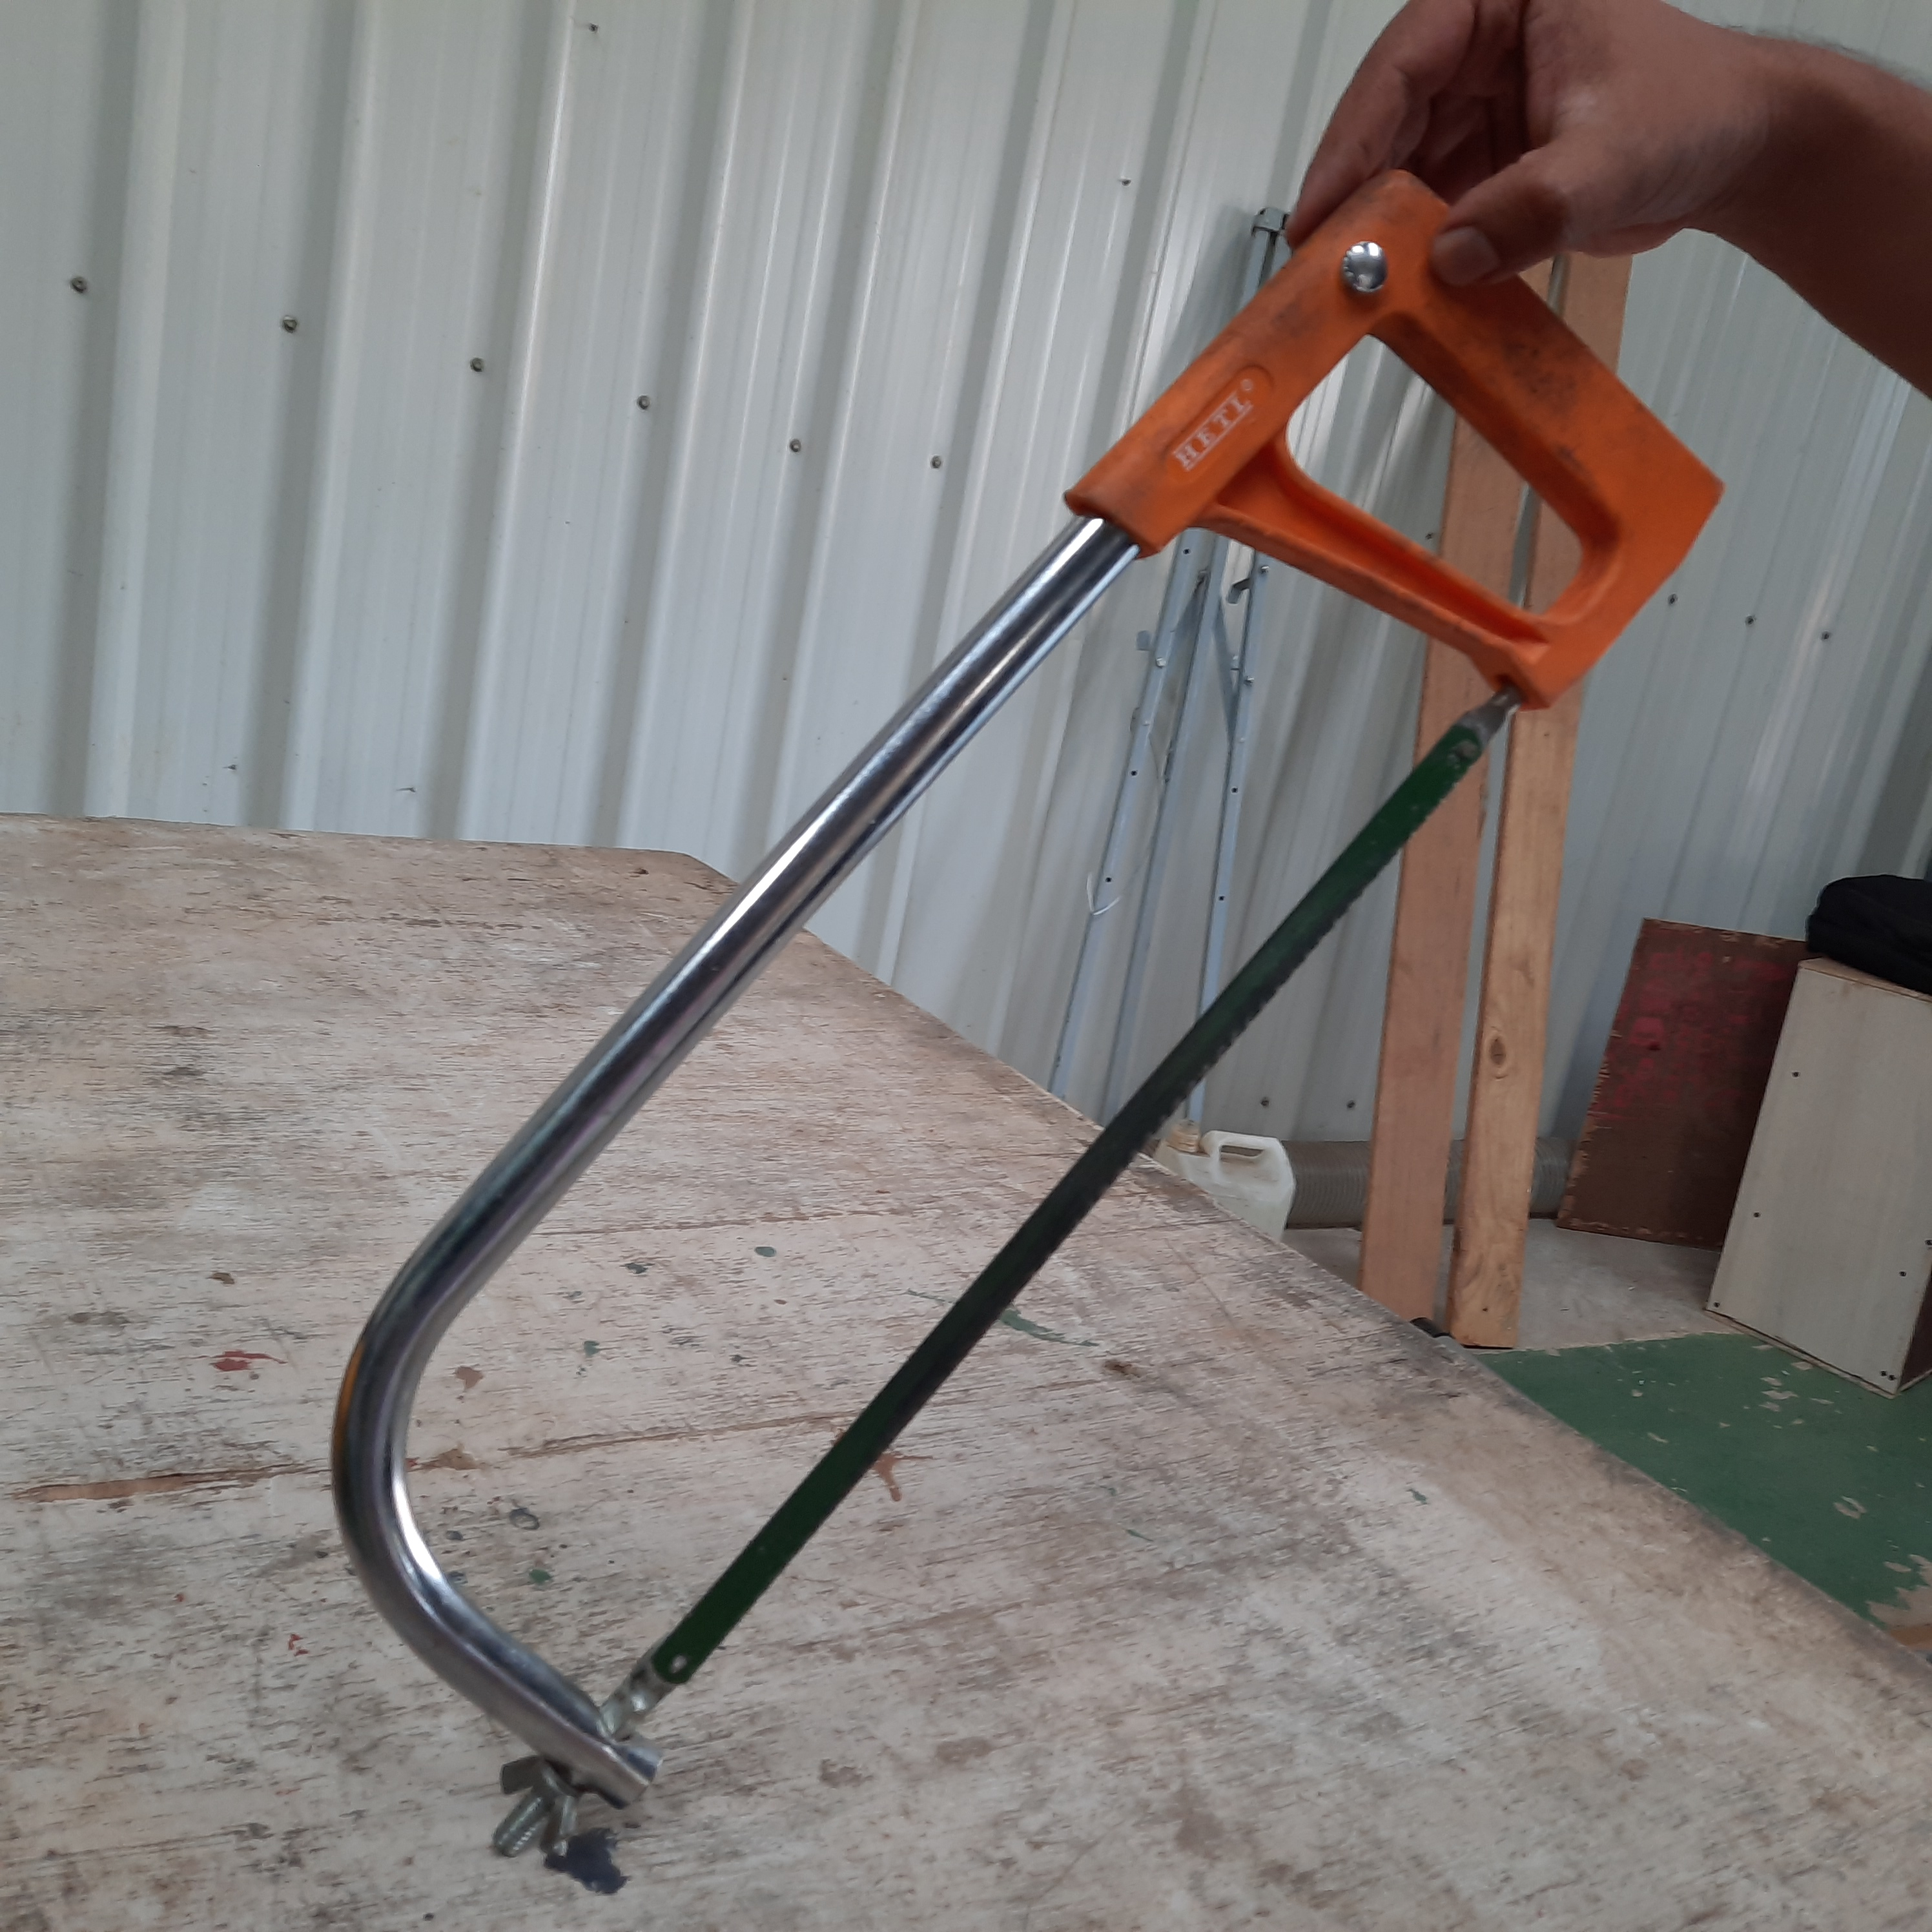Hexaframe: (301, 157, 1743, 1882)
